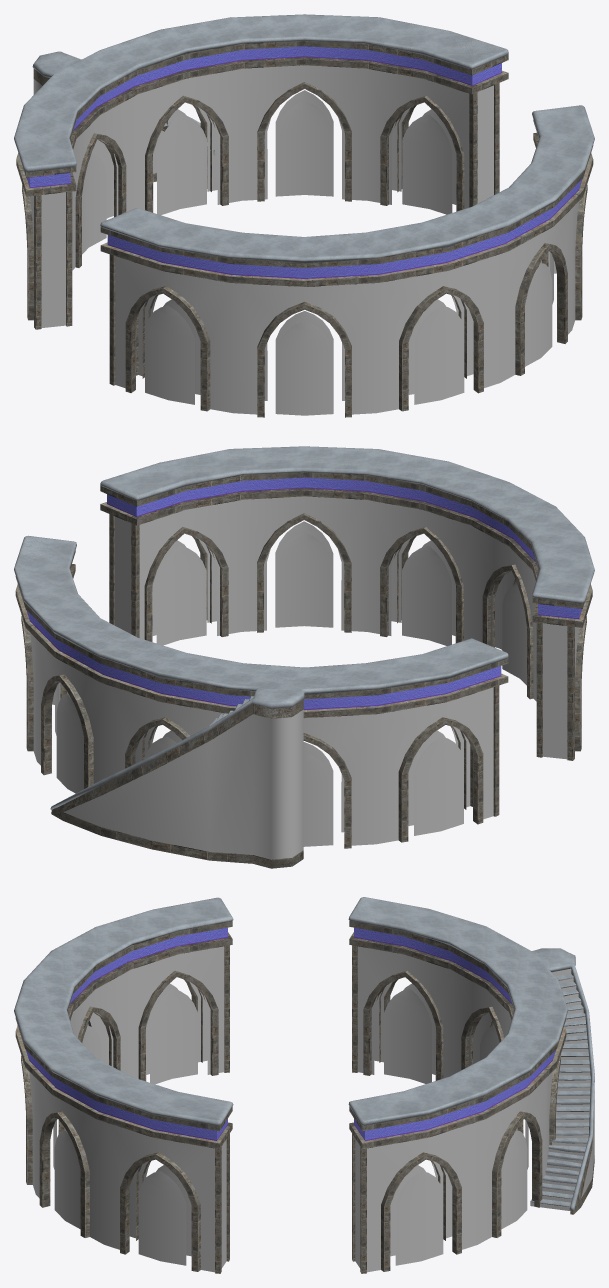
Rendered from yuanpan_no.fbx.
3 renders of one model, top to bottom at view 1: azimuth 30°, elevation 25°; view 2: azimuth 150°, elevation 25°; view 3: azimuth 270°, elevation 25°, orthographic. The views are drawn at different scales.
Parts seen in each view (by area): view 1: yuanpan_qiang1_no, yuanpan_qiang4_no, yuanpan_xue_no, yuanpan_qiang5_no, yuanpan_qiang3_no; view 2: yuanpan_qiang1_no, yuanpan_qiang5_no, yuanpan_qiang4_no, yuanpan_xue_no, yuanpan_qiang3_no; view 3: yuanpan_qiang1_no, yuanpan_xue_no, yuanpan_qiang4_no, yuanpan_qiang5_no, yuanpan_qiang3_no.
Boxes of the visible parts, box(x1,y1,x2,y2) form: yuanpan_qiang1_no: box(29, 65, 578, 414); yuanpan_qiang4_no: box(16, 41, 593, 417); yuanpan_xue_no: box(14, 14, 594, 263); yuanpan_qiang5_no: box(33, 79, 553, 415); yuanpan_qiang3_no: box(27, 46, 582, 278); yuanpan_qiang1_no: box(30, 496, 579, 845); yuanpan_qiang5_no: box(55, 521, 526, 859); yuanpan_qiang4_no: box(15, 472, 592, 868); yuanpan_xue_no: box(14, 446, 594, 810); yuanpan_qiang3_no: box(26, 477, 581, 709); yuanpan_qiang1_no: box(29, 946, 590, 1272); yuanpan_xue_no: box(14, 897, 594, 1211); yuanpan_qiang4_no: box(15, 920, 594, 1273); yuanpan_qiang5_no: box(53, 983, 594, 1265); yuanpan_qiang3_no: box(26, 927, 555, 1140).
Bounding box in the file's own units: 18.98 × 6.21 × 20.67.
